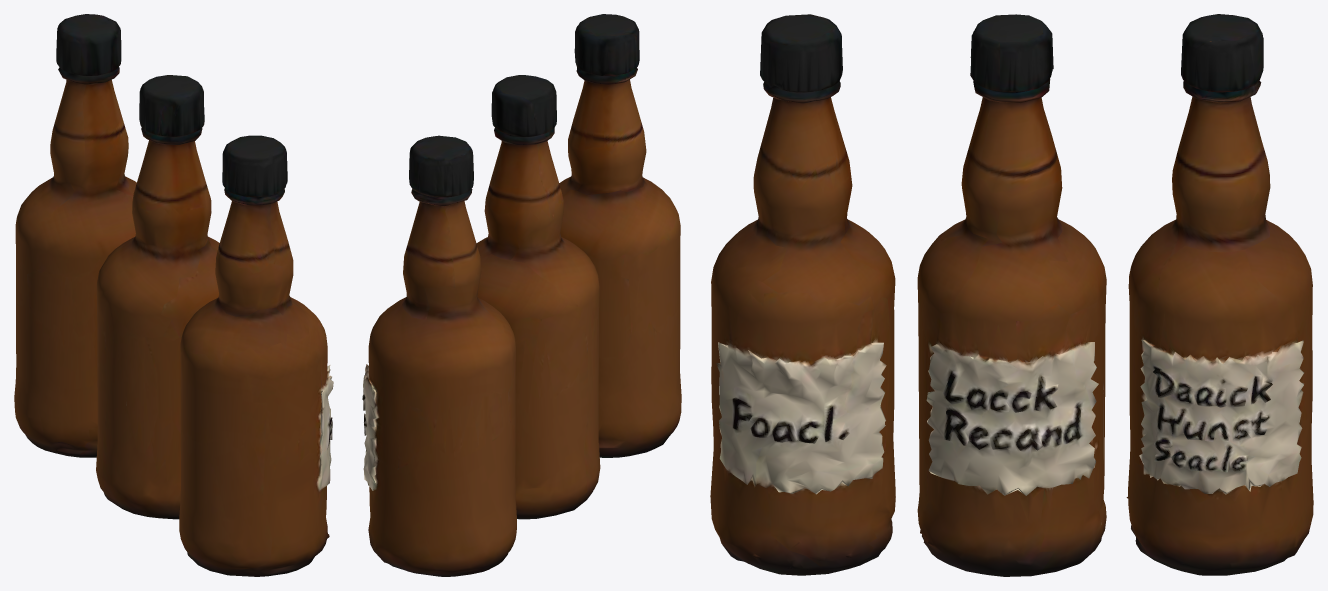
Rendered from bottles.glb.
3 renders of one model, left to right at view 1: azimuth 30°, elevation 25°; view 2: azimuth 150°, elevation 25°; view 3: azimuth 270°, elevation 25°, orthographic. The views are drawn at different scales.
Visible parts, largest first — view 1: tripo_node_8de40acf-8079-4026-ada8-502232f2cc41; view 2: tripo_node_8de40acf-8079-4026-ada8-502232f2cc41; view 3: tripo_node_8de40acf-8079-4026-ada8-502232f2cc41.
Part boxes in pixels (<box>): tripo_node_8de40acf-8079-4026-ada8-502232f2cc41: <box>14,14,333,576</box>; tripo_node_8de40acf-8079-4026-ada8-502232f2cc41: <box>362,14,681,576</box>; tripo_node_8de40acf-8079-4026-ada8-502232f2cc41: <box>710,14,1313,576</box>.
Size of the model in its own units: 0.0838 by 0.24 by 0.254.
1 material, 1 textured.
